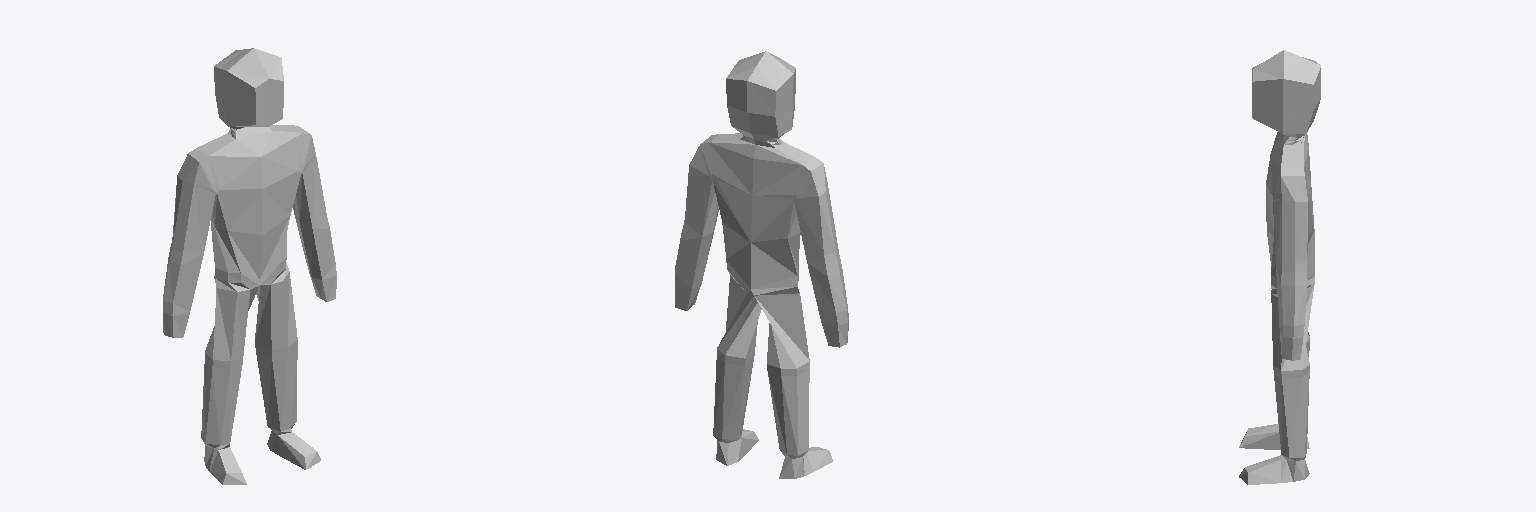
Rendered from Dude_Initial.obj.
The picture shows the model from 3 angles: view 1: azimuth 30°, elevation 25°; view 2: azimuth 150°, elevation 25°; view 3: azimuth 270°, elevation 25°; orthographic projection.
Parts seen in each view (by area): view 1: Cube; view 2: Cube; view 3: Cube.
Boxes of the visible parts, x1,y1,x2,y2 form: Cube: [163, 48, 336, 484]; Cube: [675, 51, 848, 478]; Cube: [1239, 50, 1320, 484].
Bounding box in the file's own units: 2.45 × 5.58 × 1.01.